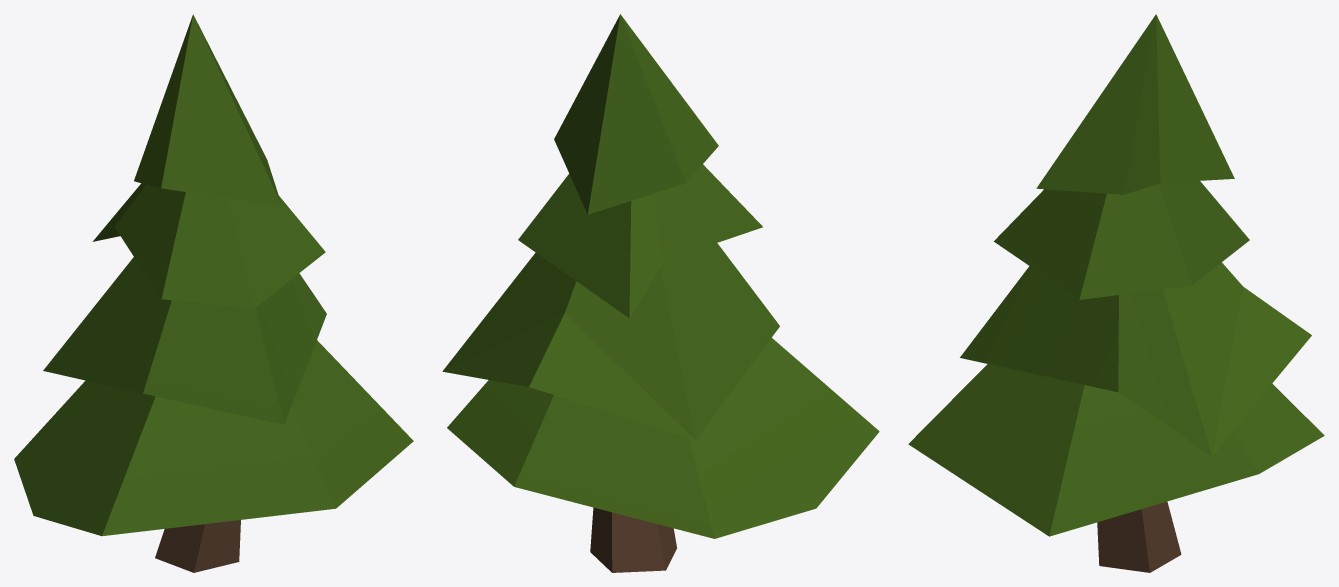
File: tree2.fbx
3 renders of one model, left to right at view 1: azimuth 30°, elevation 25°; view 2: azimuth 150°, elevation 25°; view 3: azimuth 270°, elevation 25°, orthographic. The views are drawn at different scales.
Visible parts, largest first — view 1: Tree2; view 2: Tree2; view 3: Tree2.
Boxes of the visible parts, box(x1,y1,x2,y2) form: Tree2: box(14, 14, 413, 572); Tree2: box(442, 14, 879, 572); Tree2: box(908, 14, 1324, 572).
Bounding box in the file's own units: 4.68 × 6.93 × 4.82.
